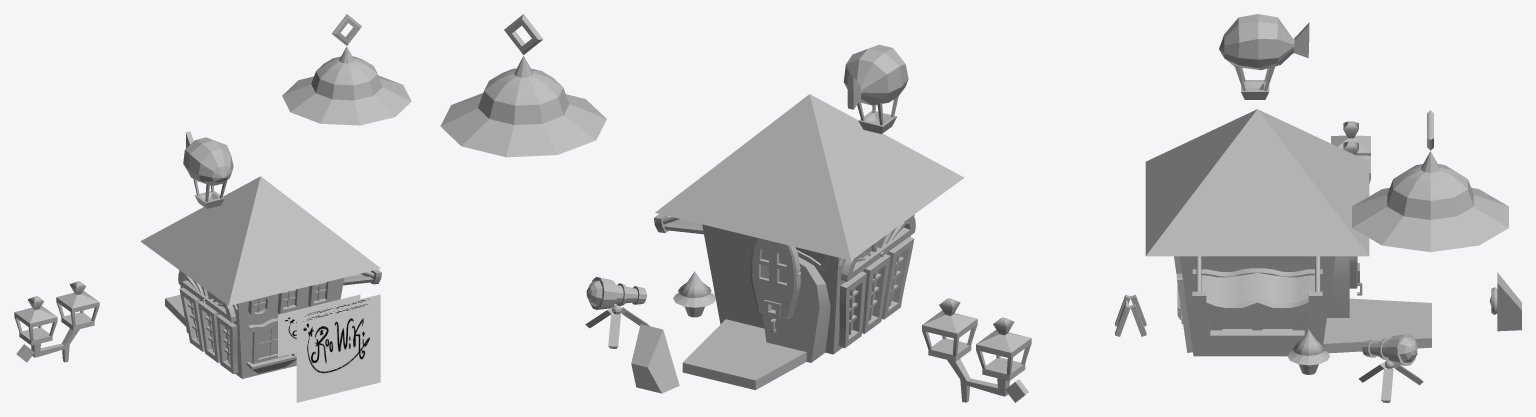
The model's file is color.glb.
The picture shows the model from 3 angles, left to right: view 1: azimuth 30°, elevation 25°; view 2: azimuth 150°, elevation 25°; view 3: azimuth 270°, elevation 25°; orthographic projection. The views are drawn at different scales.
Size of the model in its own units: 85.06 by 48.41 by 64.36.
3 materials, 2 textured.
